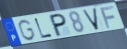8: (68, 11, 85, 35)
F: (99, 5, 116, 30)
G: (18, 19, 37, 42)
L: (34, 17, 54, 40)
P: (49, 13, 68, 38)
V: (81, 7, 101, 31)
